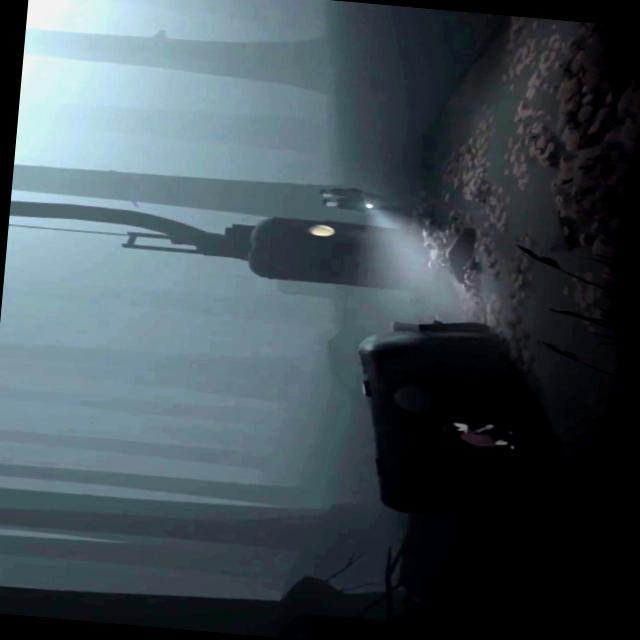boy: (438, 418, 518, 452)
human: (318, 197, 411, 216), (317, 184, 398, 203)
